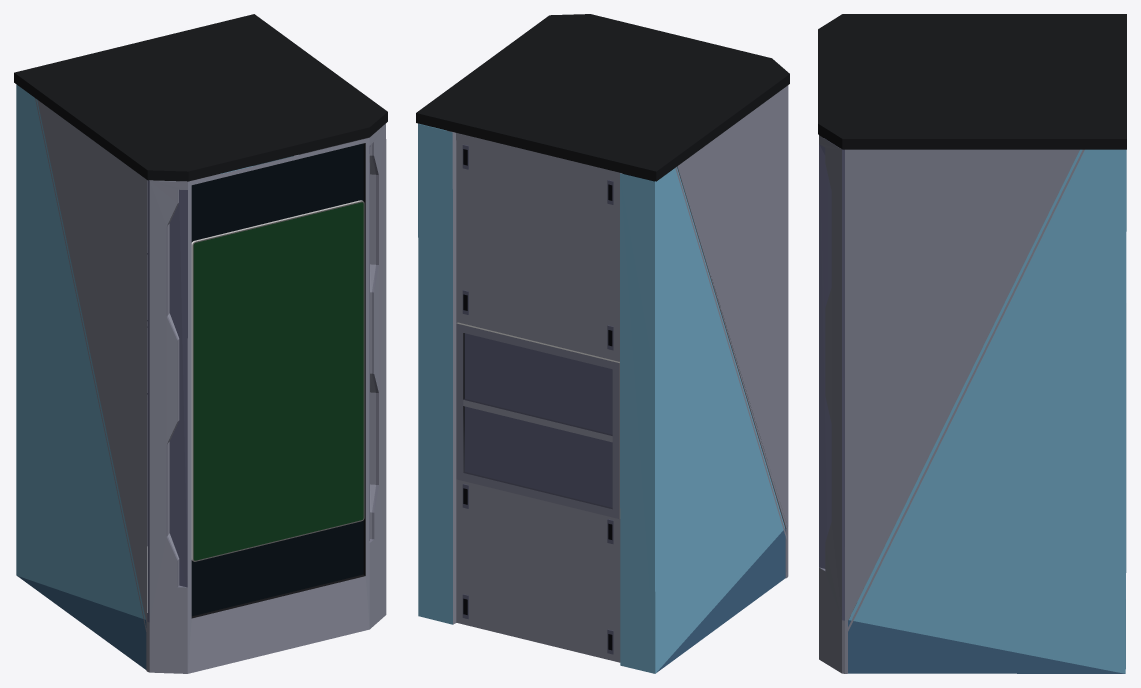
Rendered from Building_Hana_002_2st_L3.fbx.
3 renders of one model, left to right at view 1: azimuth 30°, elevation 25°; view 2: azimuth 150°, elevation 25°; view 3: azimuth 270°, elevation 25°, orthographic. The views are drawn at different scales.
Parts seen in each view (by area): view 1: Building_Hana_002_2st_L3; view 2: Building_Hana_002_2st_L3; view 3: Building_Hana_002_2st_L3.
Boxes of the visible parts, x1,y1,x2,y2 form: Building_Hana_002_2st_L3: (14,14,387,673); Building_Hana_002_2st_L3: (416,14,789,673); Building_Hana_002_2st_L3: (818,14,1126,673).
Size of the model in its own units: 37.71 by 75.43 by 39.4.
